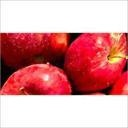apple: (65, 33, 128, 93)
